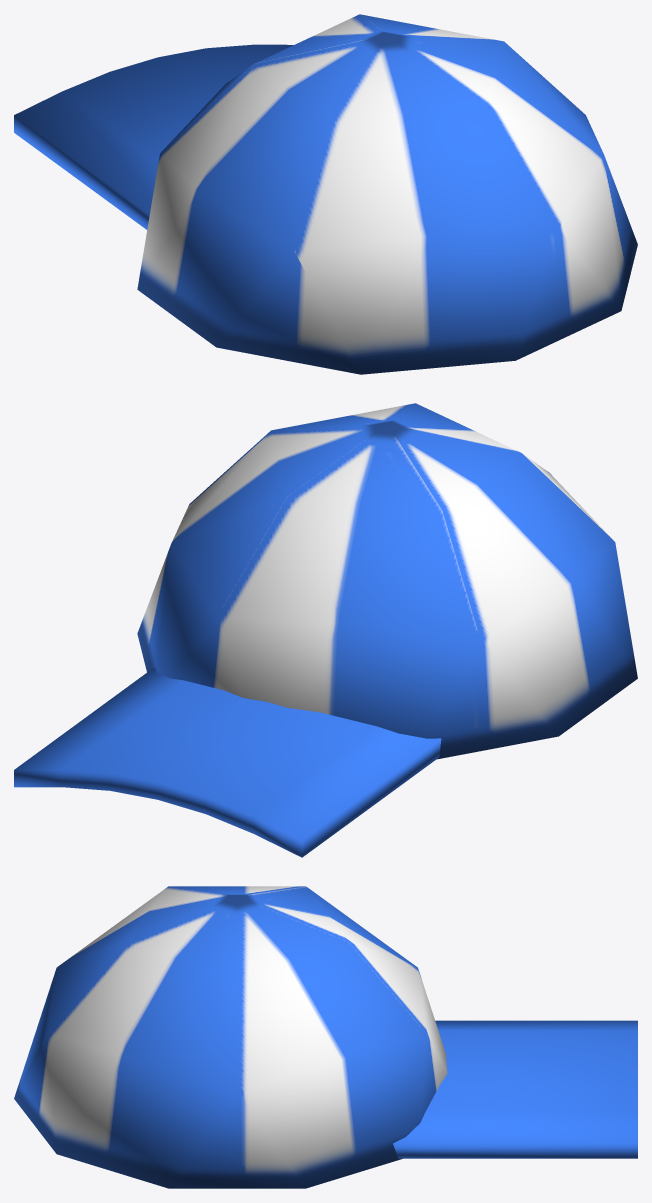
The model's file is Blue Cap.fbx.
3 renders of one model, top to bottom at view 1: azimuth 30°, elevation 25°; view 2: azimuth 150°, elevation 25°; view 3: azimuth 270°, elevation 25°, orthographic. The views are drawn at different scales.
Visible parts, largest first — view 1: Hat; view 2: Hat; view 3: Hat.
Part boxes in pixels (left/top/right/bottom): Hat: left=14, top=14, right=637, bottom=374; Hat: left=14, top=403, right=637, bottom=857; Hat: left=14, top=886, right=637, bottom=1188.
Size of the model in its own units: 1.3 by 1.91 by 0.6947.
